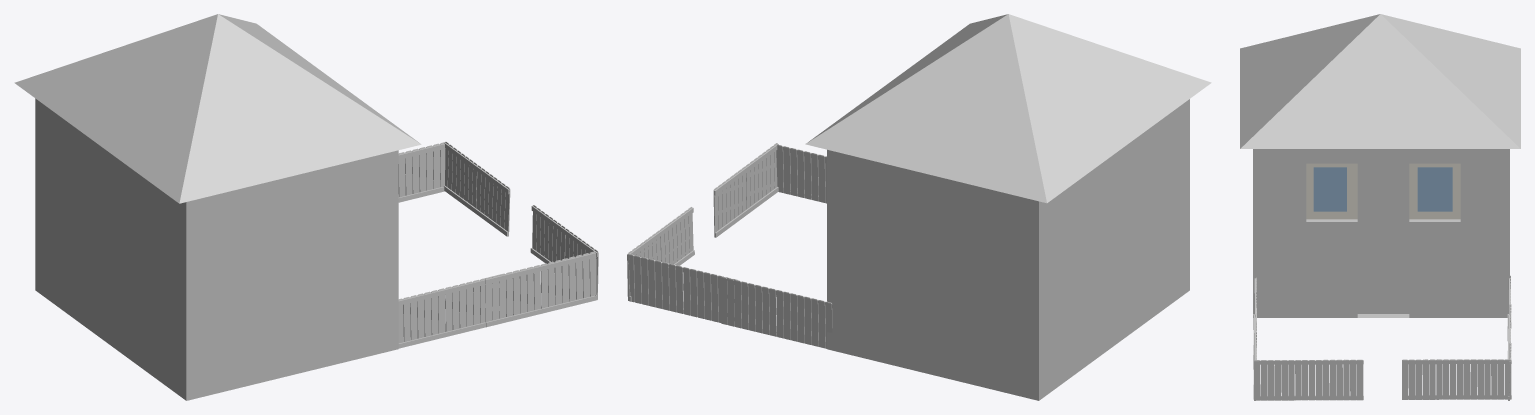
The model's file is haus5 mit vorgarten.fbx.
3 views of the same model, side by side, from view 1: azimuth 30°, elevation 25°; view 2: azimuth 150°, elevation 25°; view 3: azimuth 270°, elevation 25° (orthographic). The views are drawn at different scales.
Parts seen in each view (by area): view 1: haus; view 2: haus; view 3: haus.
Boxes of the visible parts, left/top/right/bottom form: haus: left=14, top=14, right=598, bottom=400; haus: left=627, top=14, right=1211, bottom=400; haus: left=1240, top=14, right=1520, bottom=400.
Size of the model in its own units: 1173 by 1754 by 1200.
